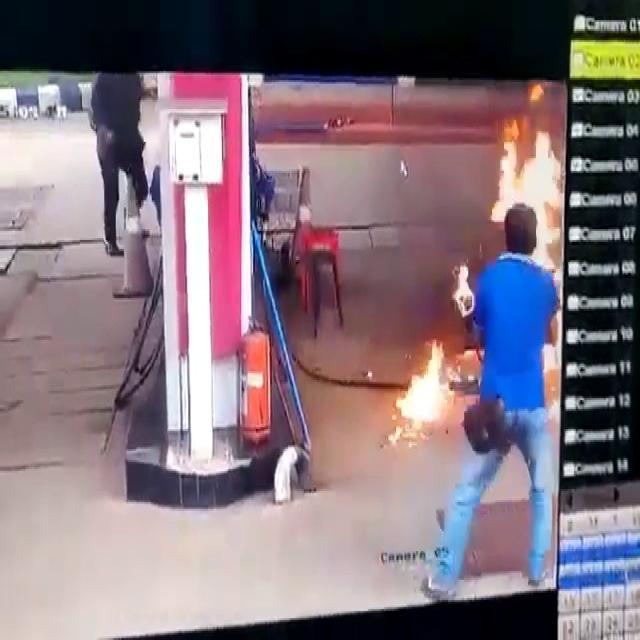Fire: (482, 96, 571, 262), (382, 334, 461, 434)
